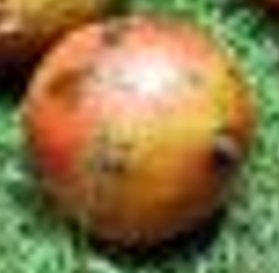pomegranate_B: (23, 12, 259, 247)
